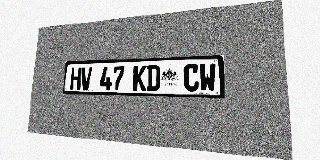4: (100, 66, 113, 90)
7: (112, 66, 125, 90)
C: (184, 64, 199, 91)
D: (146, 65, 160, 91)
H: (70, 67, 82, 90)
K: (133, 65, 146, 91)
V: (80, 67, 92, 90)
W: (199, 63, 216, 92)
